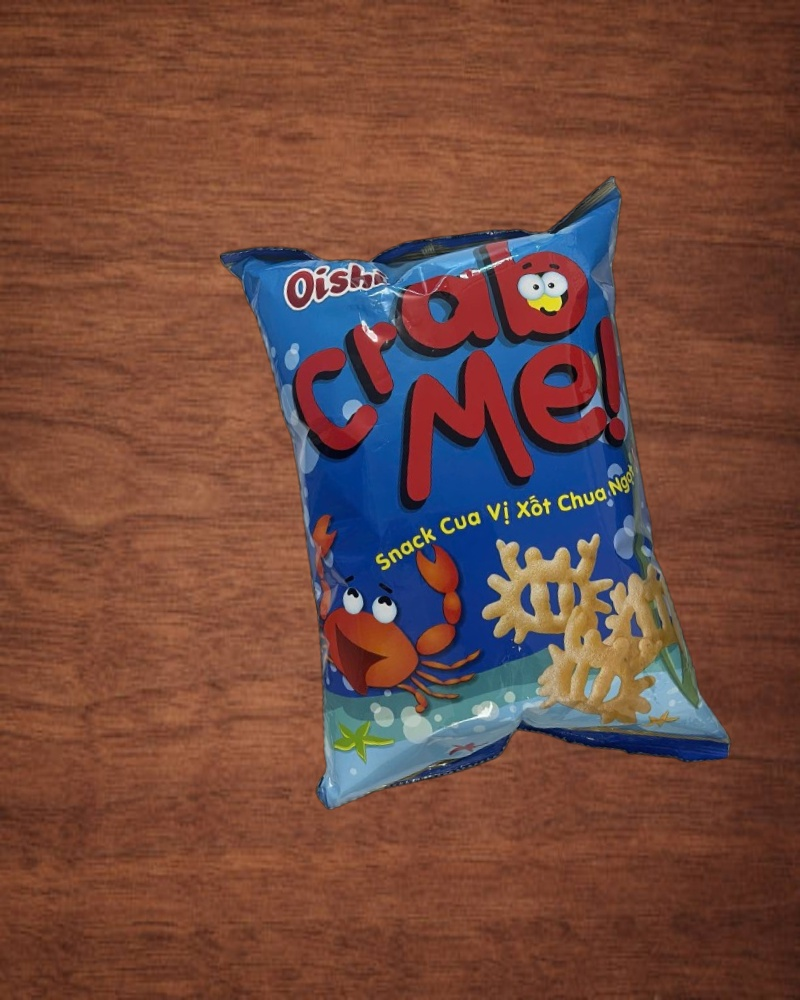Snack cua: (219, 174, 733, 824)
